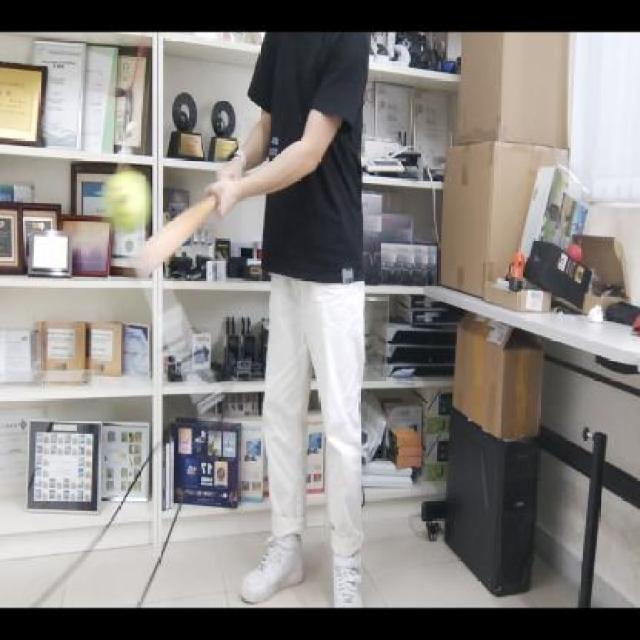baseball: (101, 166, 156, 234)
